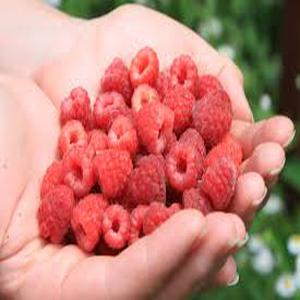raspb: (61, 90, 233, 213)
